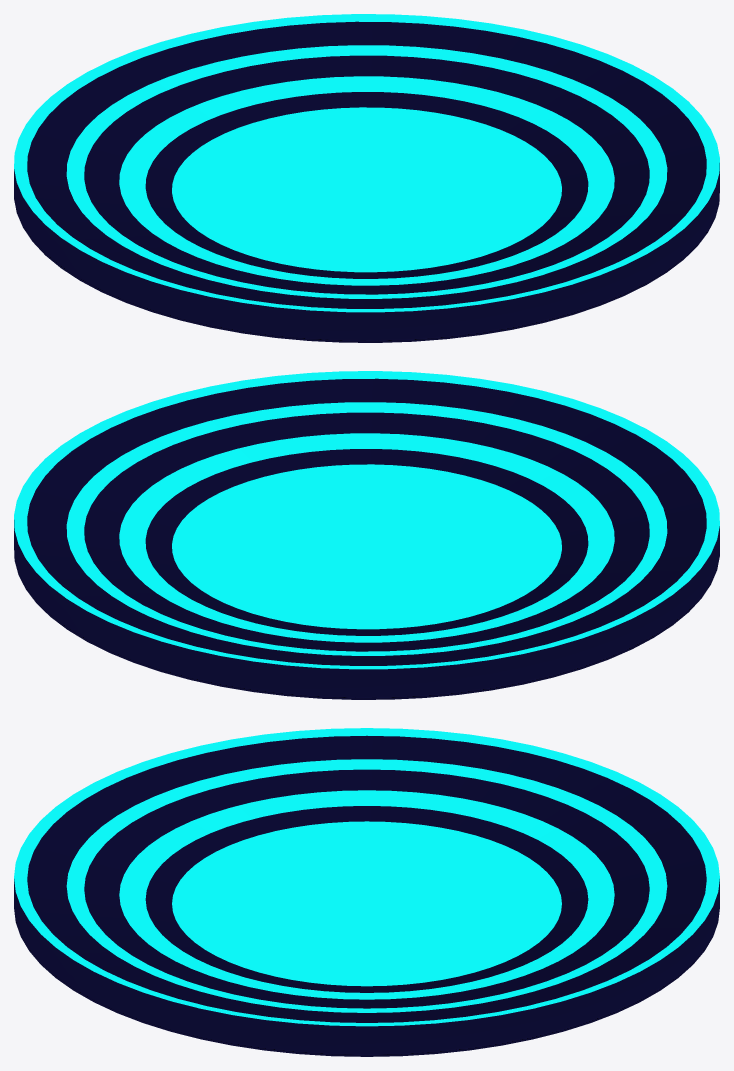
File: earth_base.glb
3 views of the same model, one above another, from view 1: azimuth 30°, elevation 25°; view 2: azimuth 150°, elevation 25°; view 3: azimuth 270°, elevation 25° (orthographic).
Parts seen in each view (by area): view 1: world_base, world_base.001; view 2: world_base, world_base.001; view 3: world_base, world_base.001.
Boxes of the visible parts, x1,y1,x2,y2 form: world_base: (14,14,719,342); world_base.001: (172,107,561,272); world_base: (14,371,719,699); world_base.001: (172,464,561,629); world_base: (14,728,719,1056); world_base.001: (172,821,561,986).
Size of the model in its own units: 0.342 by 0.0163 by 0.342.
